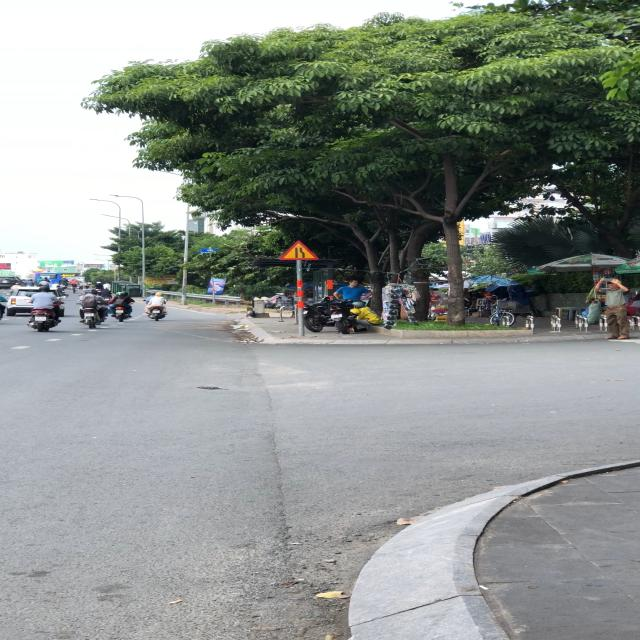Bien bao duong bi thu hep: (277, 239, 321, 261)
